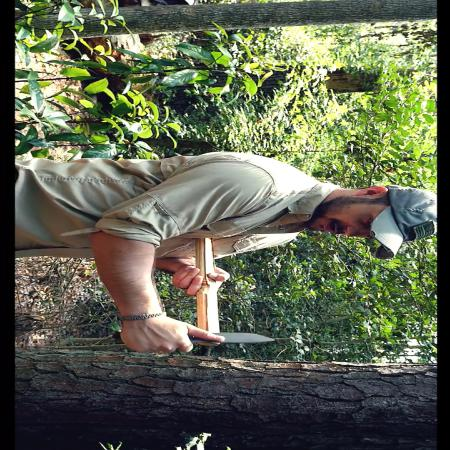long weapon: (129, 323, 279, 356)
